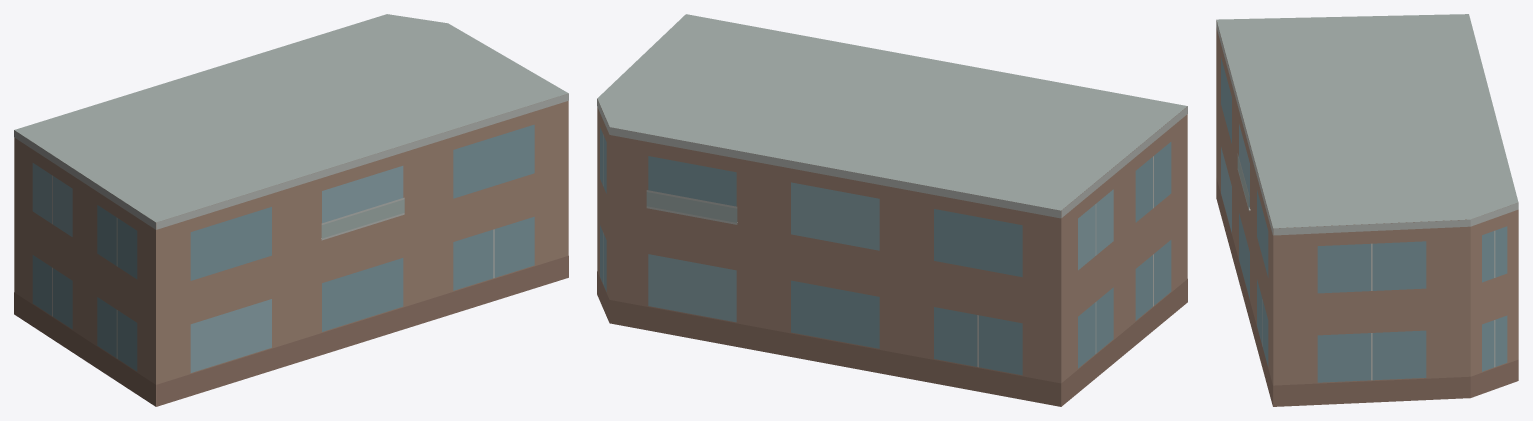
File: survey-upis-33022989.glb
3 views of the same model, side by side, from view 1: azimuth 30°, elevation 25°; view 2: azimuth 150°, elevation 25°; view 3: azimuth 270°, elevation 25° (orthographic). The views are drawn at different scales.
Visible parts, largest first — view 1: survey-upis-33022989.tmp; view 2: survey-upis-33022989.tmp; view 3: survey-upis-33022989.tmp.
Part boxes in pixels (x1,y1,x2,y2): survey-upis-33022989.tmp: (14, 14, 568, 406); survey-upis-33022989.tmp: (597, 14, 1187, 406); survey-upis-33022989.tmp: (1216, 14, 1518, 406).
Bounding box in the file's own units: 15.72 × 6.1 × 9.37.
